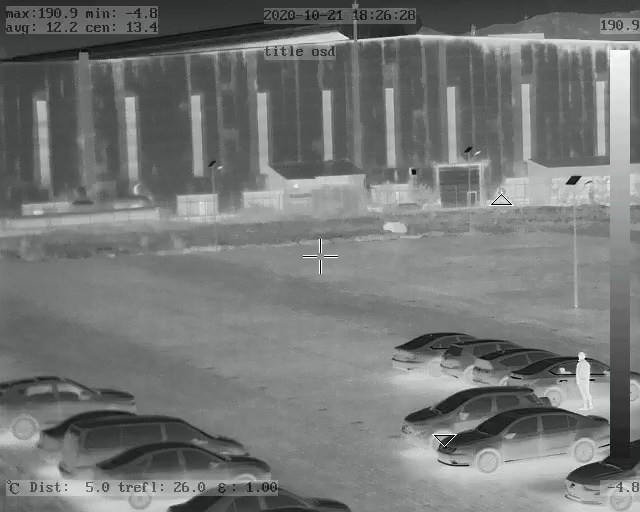person: (575, 350, 597, 411)
vehicle: (436, 407, 610, 474), (57, 414, 241, 477), (91, 441, 265, 506), (3, 378, 138, 438), (401, 383, 521, 441), (560, 440, 640, 509), (511, 355, 609, 404), (465, 346, 539, 385), (391, 328, 452, 372), (439, 337, 500, 379)
